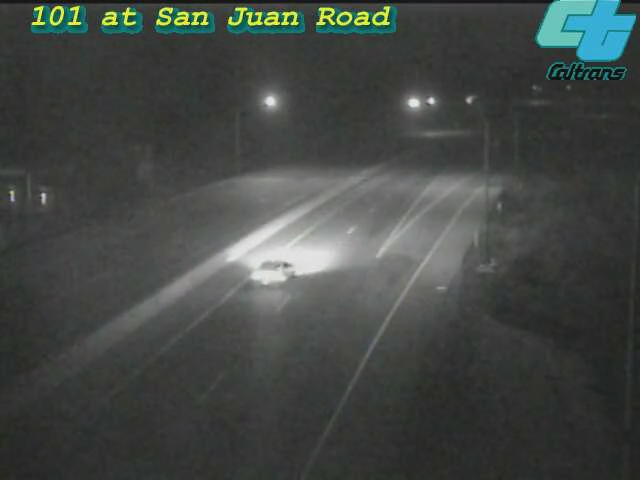vehicle: (220, 241, 300, 321)
